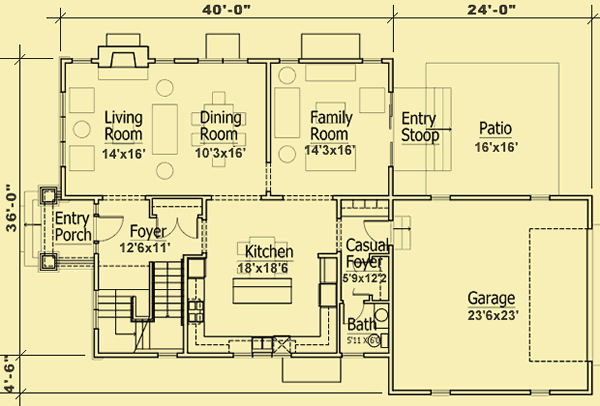dining_table: (190, 88, 249, 172)
door: (155, 213, 202, 241), (95, 214, 126, 243), (361, 217, 392, 246)
stairs: (95, 258, 184, 353), (394, 82, 455, 173)
twin_sink: (250, 332, 272, 351)
window: (58, 89, 71, 169), (195, 57, 251, 67), (276, 55, 302, 65), (153, 55, 175, 66), (358, 55, 382, 64)
